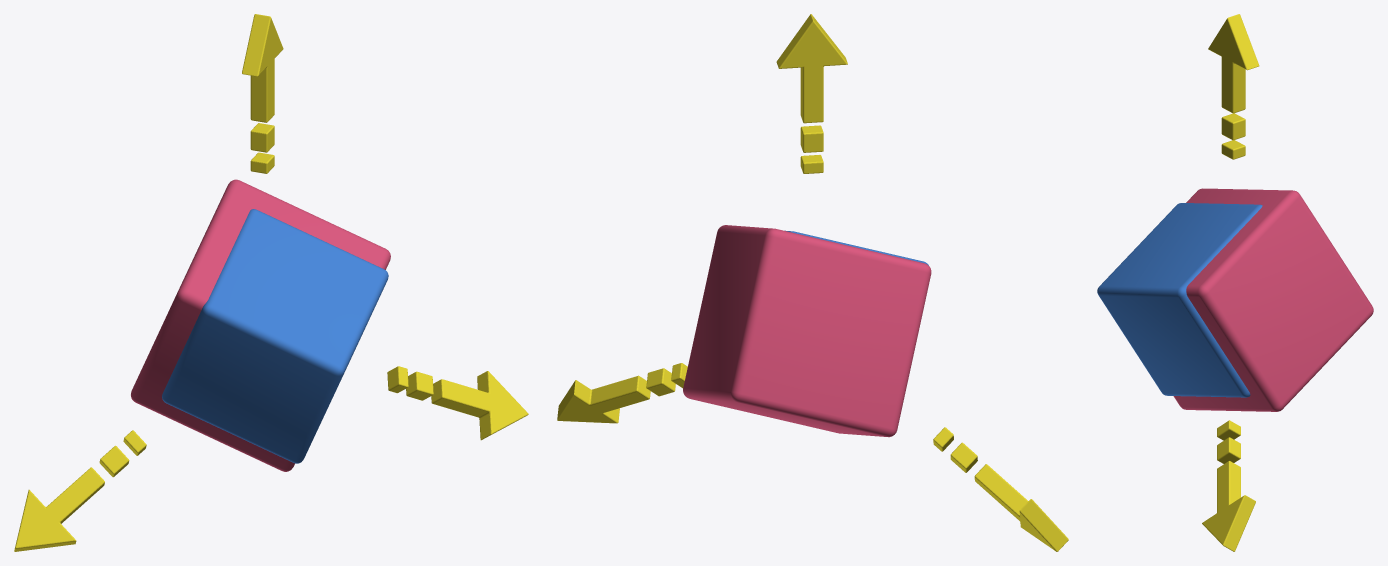
File: scalability-3d-animated-icon-895452411339.glb
The picture shows the model from 3 angles, left to right: view 1: azimuth 30°, elevation 25°; view 2: azimuth 150°, elevation 25°; view 3: azimuth 270°, elevation 25°; orthographic projection. The views are drawn at different scales.
Visible parts, largest first — view 1: Cube.107, Cube.094, Plane.067, Plane.066, Plane.065; view 2: Cube.094, Plane.065, Plane.067, Plane.066; view 3: Cube.094, Cube.107, Plane.065, Plane.067.
Part boxes in pixels (x1,y1,x2,y2): Cube.107: (162, 209, 388, 463); Cube.094: (131, 179, 390, 471); Plane.067: (387, 366, 528, 440); Plane.066: (14, 430, 146, 551); Plane.065: (242, 14, 283, 173); Cube.094: (683, 225, 931, 437); Plane.065: (776, 14, 847, 173); Plane.067: (557, 363, 687, 423); Plane.066: (933, 427, 1068, 551); Cube.094: (1173, 188, 1373, 411); Cube.107: (1097, 203, 1262, 397); Plane.065: (1208, 14, 1259, 159); Plane.067: (1202, 420, 1255, 551).
Bounding box in the file's own units: 8.61 × 7.65 × 4.44.
